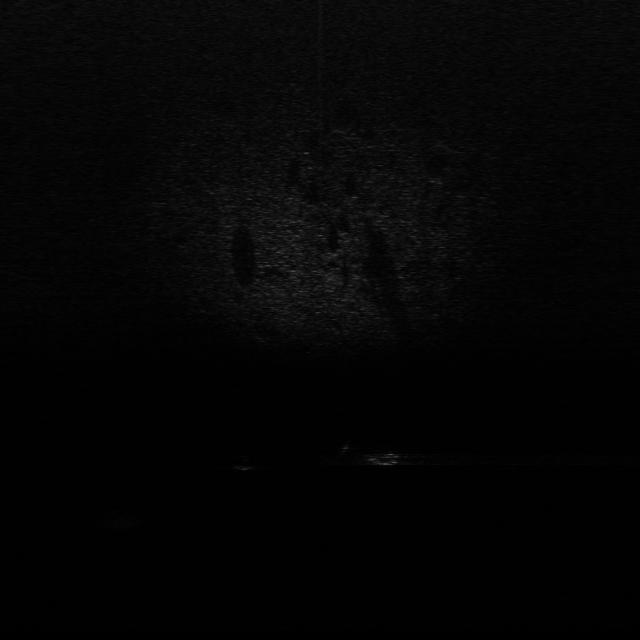ball: (232, 453, 259, 472)
circle cage: (100, 509, 142, 533)
human body: (323, 440, 423, 471)
